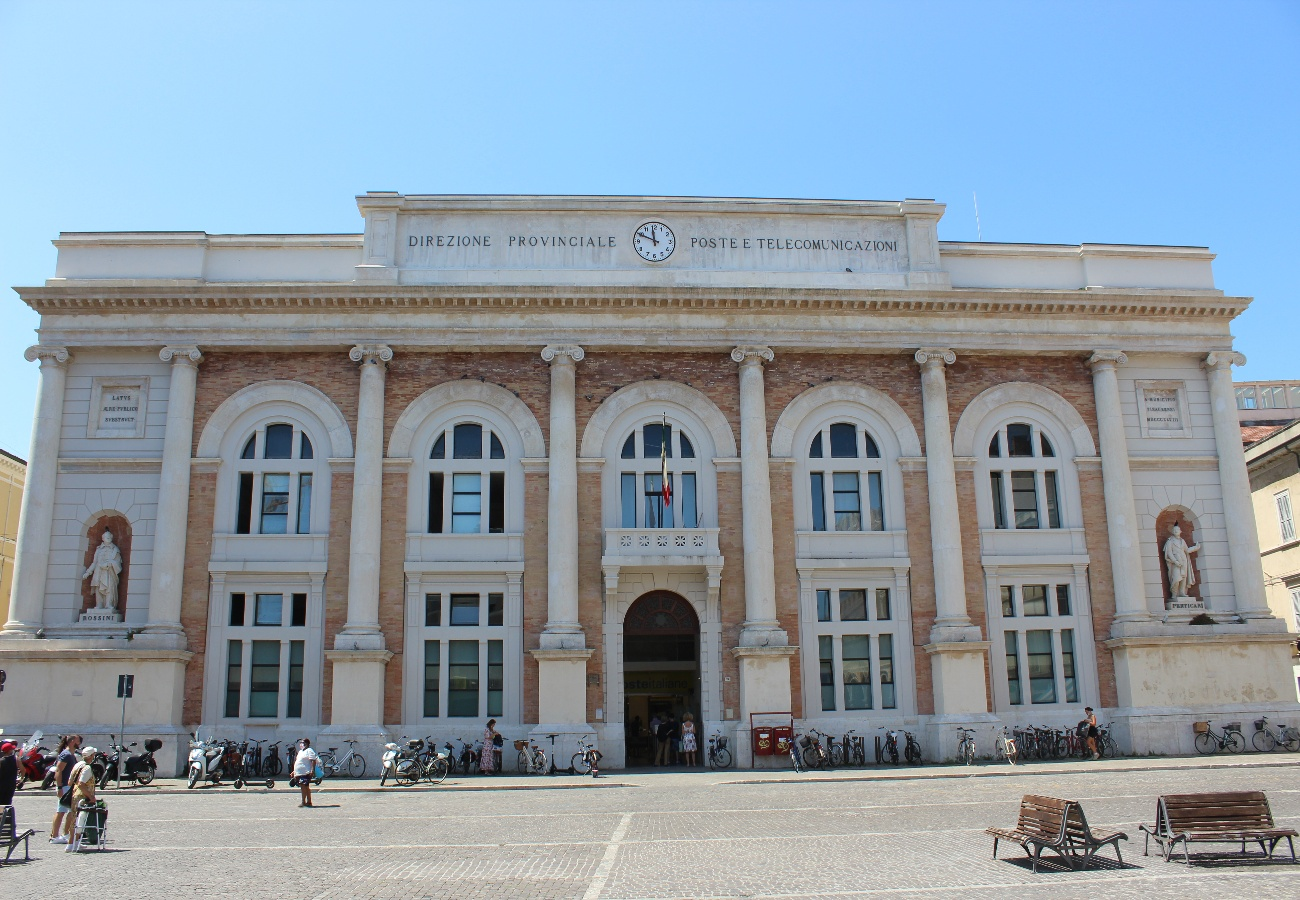Gioachino Rossini: (75, 510, 134, 637)
Giulio Perticari: (1156, 505, 1210, 620)
Palazzo delle Poste: (10, 197, 1293, 777)
